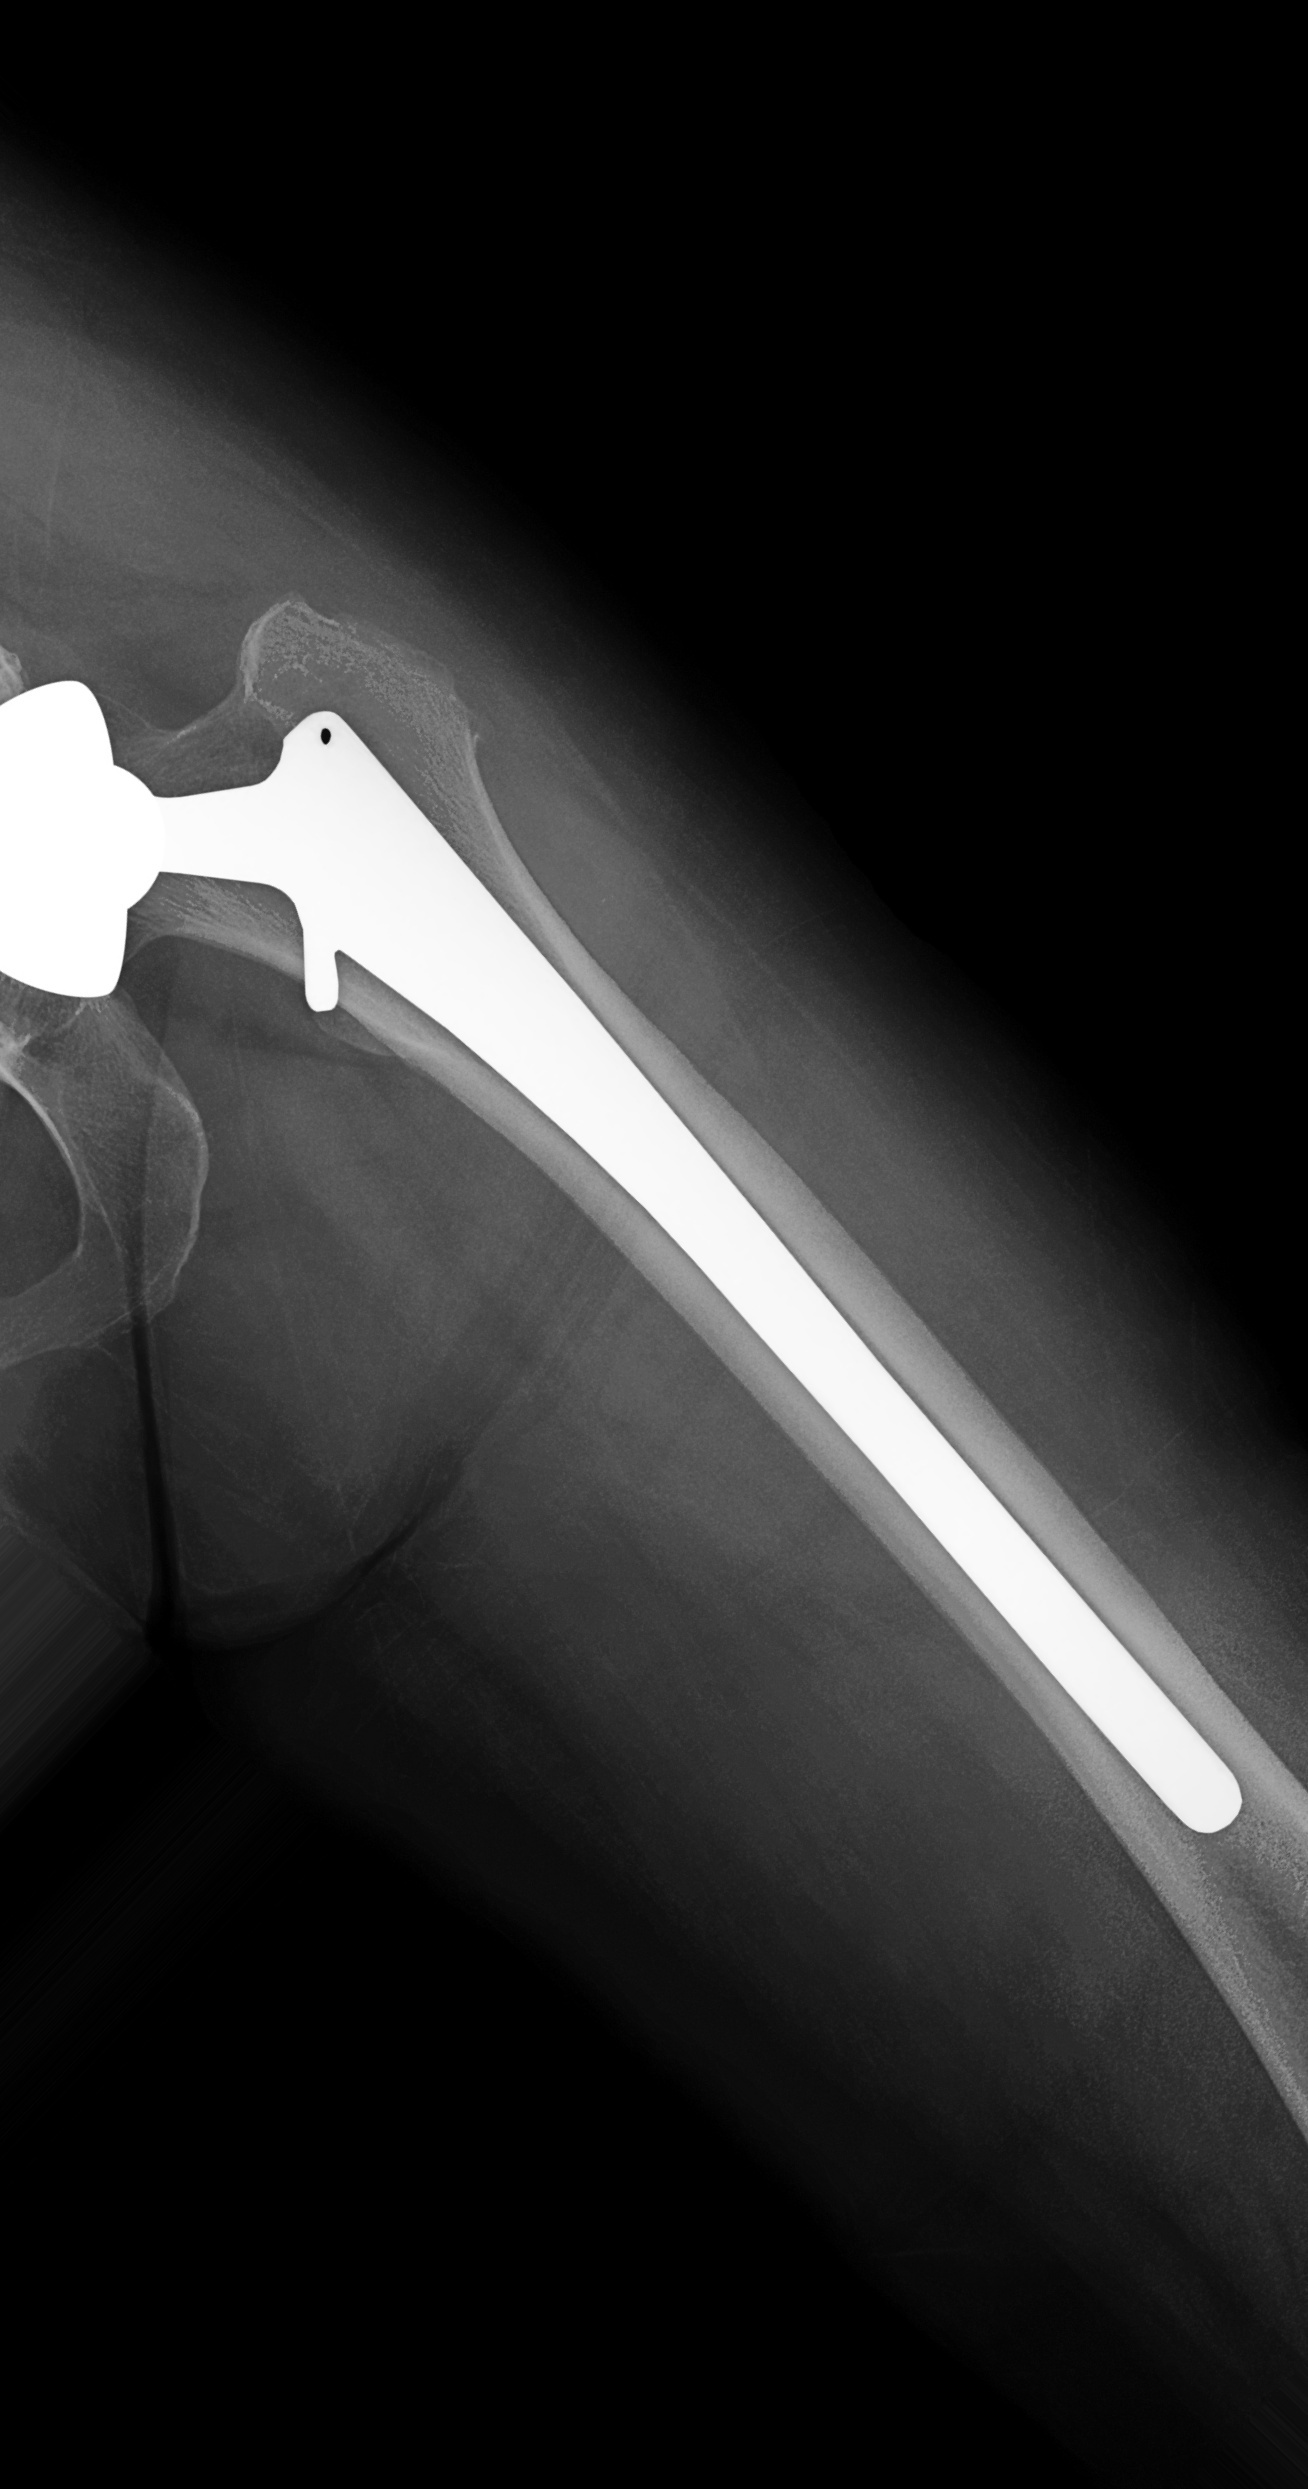Hip-Bias-Zimmer: (3, 640, 1249, 1840)
